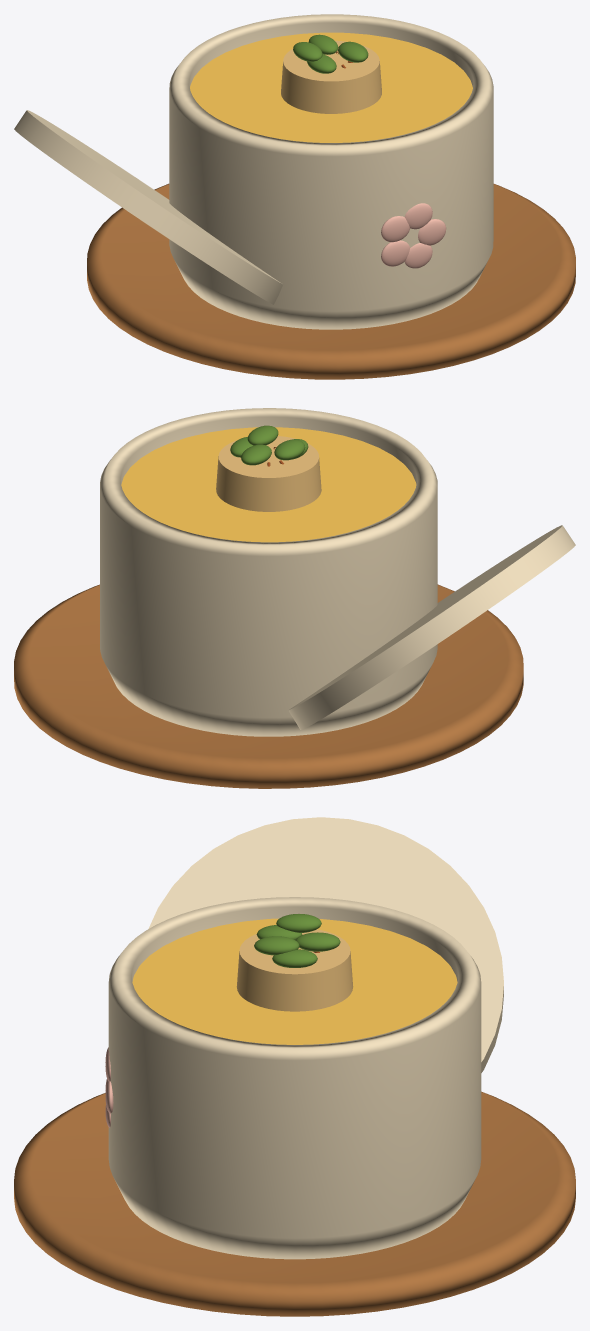
Rendered from 52-scallop-custard.glb.
3 views of the same model, one above another, from view 1: azimuth 30°, elevation 25°; view 2: azimuth 150°, elevation 25°; view 3: azimuth 270°, elevation 25° (orthographic). The views are drawn at different scales.
Visible parts, largest first — view 1: 관자 차완무시; view 2: 관자 차완무시; view 3: 관자 차완무시.
Part boxes in pixels (<box>): 관자 차완무시: <box>14,14,575,379</box>; 관자 차완무시: <box>14,408,575,788</box>; 관자 차완무시: <box>14,817,575,1316</box>.
Bounding box in the file's own units: 1.99 × 0.971 × 1.72.
